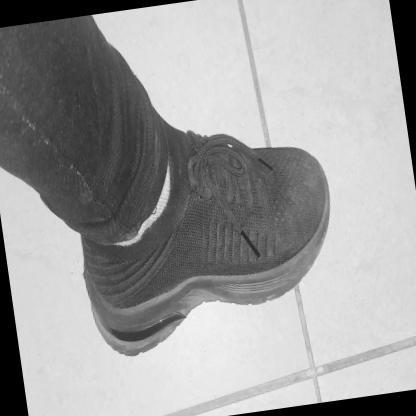ankle: (146, 227, 161, 247)
heel: (95, 303, 105, 319)
pinky: (290, 149, 299, 164)
right_foot: (67, 118, 348, 363)
toe: (305, 211, 317, 228)
